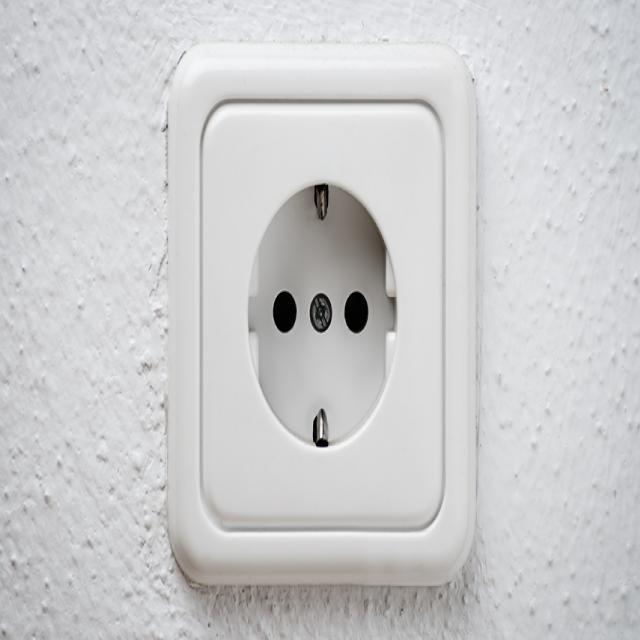typeb: (155, 33, 490, 585)
